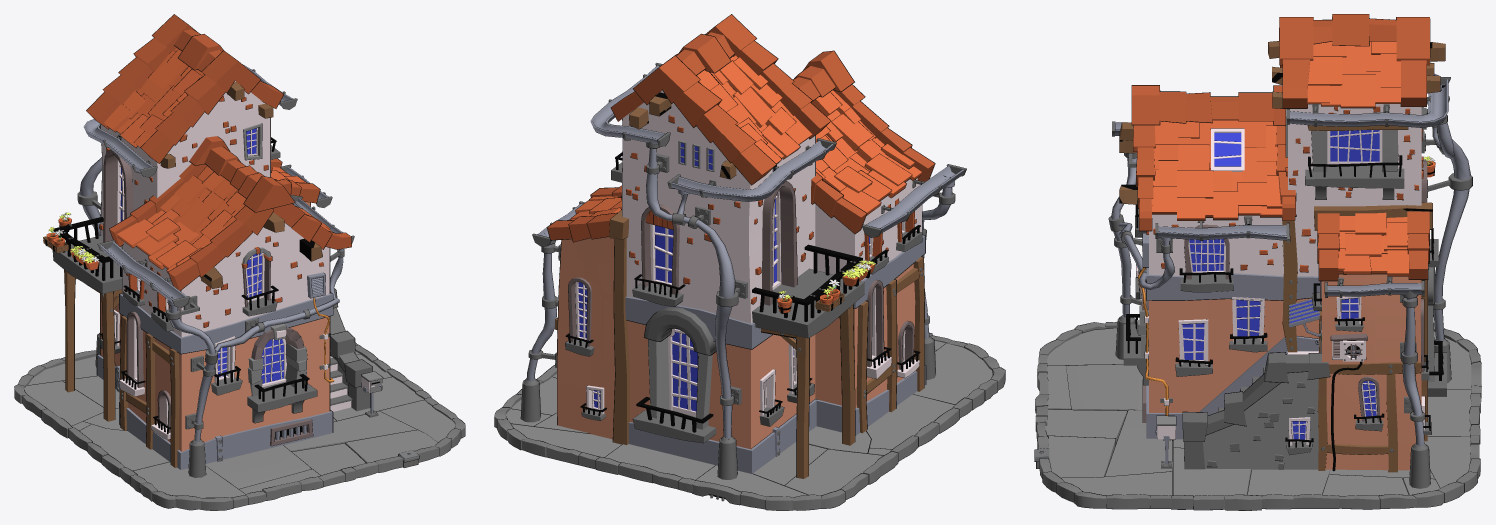
The model's file is house2-transformed.glb.
The picture shows the model from 3 angles, left to right: view 1: azimuth 30°, elevation 25°; view 2: azimuth 150°, elevation 25°; view 3: azimuth 270°, elevation 25°; orthographic projection. The views are drawn at different scales.
Visible parts, largest first — view 1: 01_Maison_09.005, 01_Maison_09.003, 01_Maison_09.004, 01_SOL_Maison_09.006, 01_Maison_09.010, 01_Maison_09.012, 01_Maison_09.023, 01_Maison_09.022, 01_SOL_Maison_09.002, 01_Maison_09.009, 01_Maison_09.011, 01_SOL_Maison_09.007 (+27 smaller); view 2: 01_Maison_09.005, 01_Maison_09.003, 01_Maison_09.004, 01_Maison_09.022, 01_Maison_09.023, 01_SOL_Maison_09.006, 01_Maison_09.010, 01_Maison_09.012, 01_Maison_09.009, 01_Maison_09.011, 01_Maison_09.007, 01_Maison_09.021 (+25 smaller); view 3: 01_Maison_09.005, 01_Maison_09.004, 01_Maison_09.003, 01_SOL_Maison_09.006, 01_Maison_09.012, 01_Maison_09.022, 01_Maison_09.034, 01_Maison_09.011, 01_Maison_09.009, 01_Maison_09.010, 01_Maison_09.015, 01_Maison_09.002 (+29 smaller).
Boxes of the visible parts, x1,y1,x2,y2 form: 01_Maison_09.005: (100,81,348,451); 01_Maison_09.003: (86,14,351,290); 01_Maison_09.004: (104,48,331,272); 01_SOL_Maison_09.006: (14,343,465,510); 01_Maison_09.010: (97,293,332,469); 01_Maison_09.012: (53,145,316,461); 01_Maison_09.023: (64,270,179,467); 01_Maison_09.022: (103,123,382,432); 01_SOL_Maison_09.002: (133,400,455,497); 01_Maison_09.009: (84,66,342,303); 01_Maison_09.011: (79,157,343,441); 01_SOL_Maison_09.007: (205,445,310,488); 01_Maison_09.005: (557,90,921,449); 01_Maison_09.003: (547,15,934,241); 01_Maison_09.004: (569,55,921,229); 01_Maison_09.022: (568,181,914,429); 01_Maison_09.023: (613,238,924,478); 01_SOL_Maison_09.006: (494,333,1005,510); 01_Maison_09.010: (625,235,925,473); 01_Maison_09.012: (565,162,921,456); 01_Maison_09.009: (538,65,963,237); 01_Maison_09.011: (527,148,951,438); 01_Maison_09.007: (575,140,905,416); 01_Maison_09.021: (565,152,920,432); 01_Maison_09.005: (1149,104,1421,470); 01_Maison_09.004: (1151,41,1408,276); 01_Maison_09.003: (1132,14,1429,280); 01_SOL_Maison_09.006: (1034,322,1481,510); 01_Maison_09.012: (1123,165,1446,454); 01_Maison_09.022: (1143,109,1434,445); 01_Maison_09.034: (1182,130,1379,439); 01_Maison_09.011: (1111,123,1470,445); 01_Maison_09.009: (1115,74,1448,296); 01_Maison_09.010: (1146,267,1319,439); 01_Maison_09.015: (1119,41,1445,454); 01_Maison_09.002: (1183,352,1330,469).
Bounding box in the file's own units: 1379 × 1478 × 1465.
